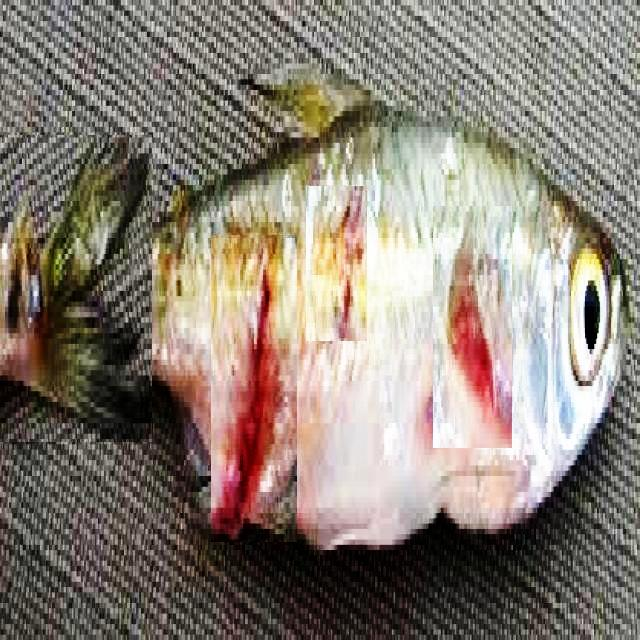Aeromonas Septicemia: (153, 79, 622, 549)
